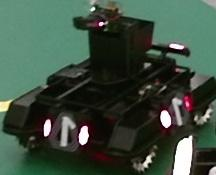armor_1: (44, 120, 89, 145)
front_1: (50, 113, 80, 151)
left_1: (169, 92, 188, 127)
